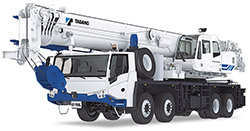crane: (10, 3, 247, 125)
